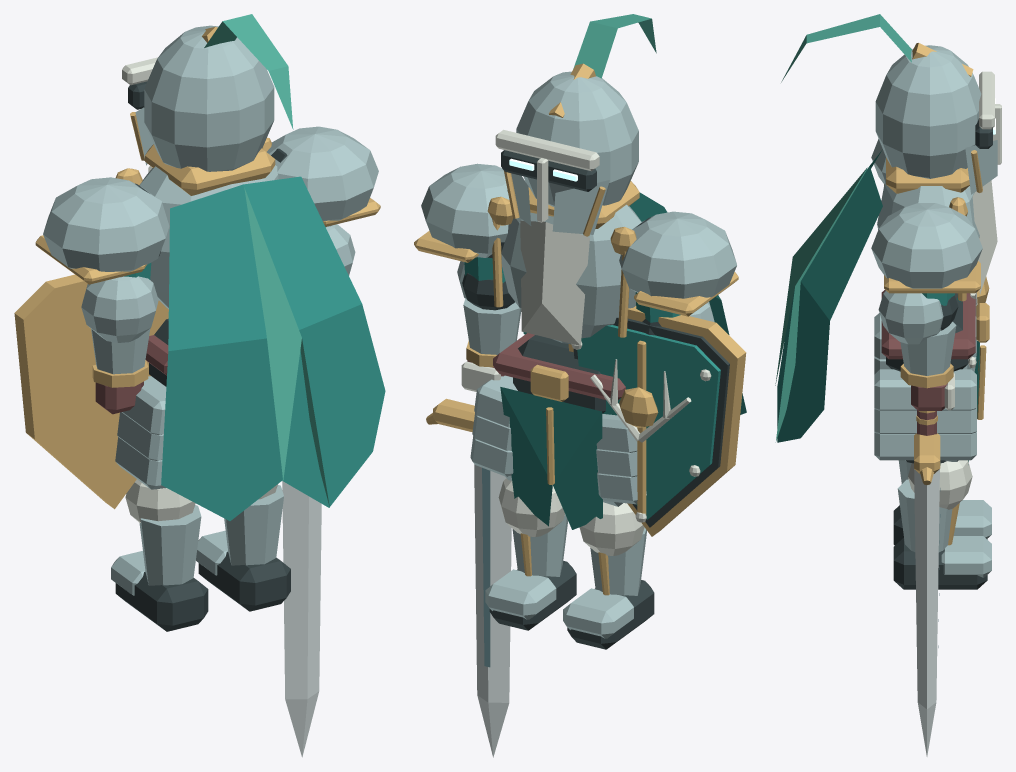
Rendered from wayfarer.glb.
3 views of the same model, side by side, from view 1: azimuth 30°, elevation 25°; view 2: azimuth 150°, elevation 25°; view 3: azimuth 270°, elevation 25° (orthographic). The views are drawn at different scales.
Visible parts, largest first — view 1: Tattered travel cloak, Shield brass silhouette, Helmet skull, Layered pauldron L, Moonsteel blade, Layered pauldron R, Raised cloak folds, Elbow cop L, Shin greave L, Leather boot L, Leather boot R, Shin greave R (+16 smaller); view 2: Shield enamel face, Split teal surcoat, Helmet skull, Layered pauldron L, Breastplate center ridge, Moonsteel blade, Layered pauldron R, Forged breastplate, Shield brass silhouette, Shield dark bevel, Armored toe R, Armored toe L (+37 smaller); view 3: Helmet skull, Tattered travel cloak, Layered pauldron R, Moonsteel blade, Raised cloak folds, Elbow cop R, Overlapping hip lames.003, Overlapping hip lames.005, Overlapping hip lames.004, Vambrace R, Forged breastplate, Armored toe R (+19 smaller).
Part boxes in pixels (x1,y1,x2,y2): Tattered travel cloak: (161,176,385,520); Shield brass silhouette: (14,274,168,509); Helmet skull: (144,25,274,171); Layered pauldron L: (43,177,169,277); Moonsteel blade: (282,481,321,757); Layered pauldron R: (267,126,378,226); Raised cloak folds: (244,188,329,506); Elbow cop L: (81,276,158,342); Shin greave L: (139,505,201,585); Leather boot L: (115,571,208,631); Leather boot R: (198,551,290,611); Shin greave R: (224,485,283,565); Shield enamel face: (577,325,720,519); Split teal surcoat: (500,387,602,529); Helmet skull: (516,71,638,206); Layered pauldron L: (619,211,736,298); Breastplate center ridge: (520,220,589,345); Moonsteel blade: (474,464,511,757); Layered pauldron R: (421,163,525,257); Forged breastplate: (501,204,641,344); Shield brass silhouette: (568,306,746,536); Shield dark bevel: (573,317,729,527); Armored toe R: (485,569,556,619); Armored toe L: (563,588,633,638); Helmet skull: (875,45,981,178); Tattered travel cloak: (777,150,882,442); Layered pauldron R: (871,203,982,288); Moonsteel blade: (914,469,939,756); Raised cloak folds: (775,167,867,442); Elbow cop R: (878,290,943,344); Overlapping hip lames.003: (874,369,976,410); Overlapping hip lames.005: (874,432,976,460); Overlapping hip lames.004: (874,408,976,433); Vambrace R: (900,321,956,375); Forged breastplate: (877,181,979,299); Armored toe R: (941,536,991,577).
Bounding box in the file's own units: 1.21 × 2.62 × 0.7715.
